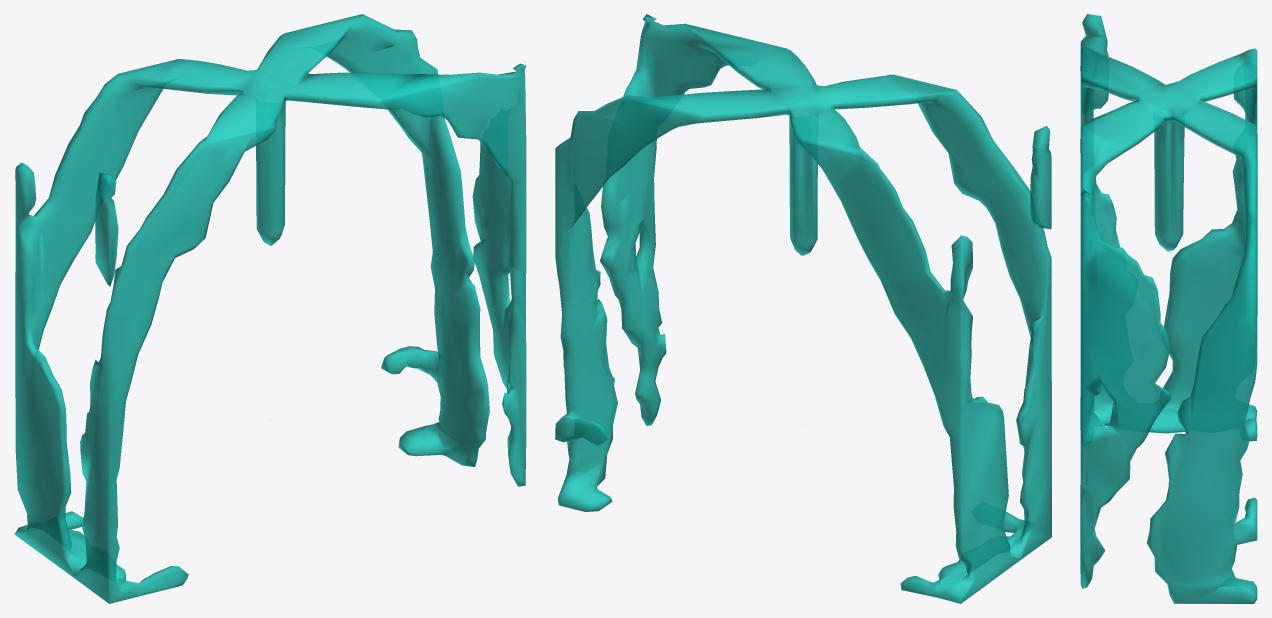
The picture shows the model from 3 angles, left to right: view 1: azimuth 30°, elevation 25°; view 2: azimuth 150°, elevation 25°; view 3: azimuth 270°, elevation 25°; orthographic projection. The views are drawn at different scales.
Parts seen in each view (by area): view 1: Liquid_Domain; view 2: Liquid_Domain; view 3: Liquid_Domain.
Part boxes in pixels (x1,y1,x2,y2): Liquid_Domain: (14, 14, 526, 603); Liquid_Domain: (555, 14, 1051, 603); Liquid_Domain: (1080, 14, 1257, 603).
Size of the model in its own units: 885 by 884 by 345.
